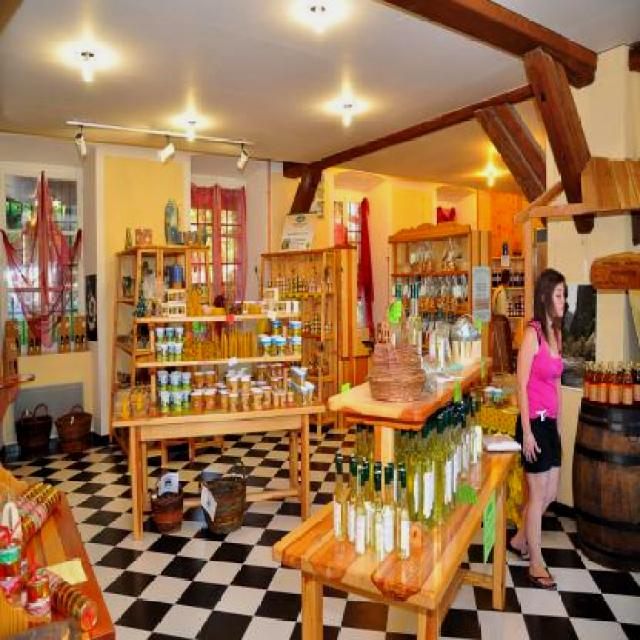Person: (521, 250, 579, 602), (492, 264, 514, 332)
